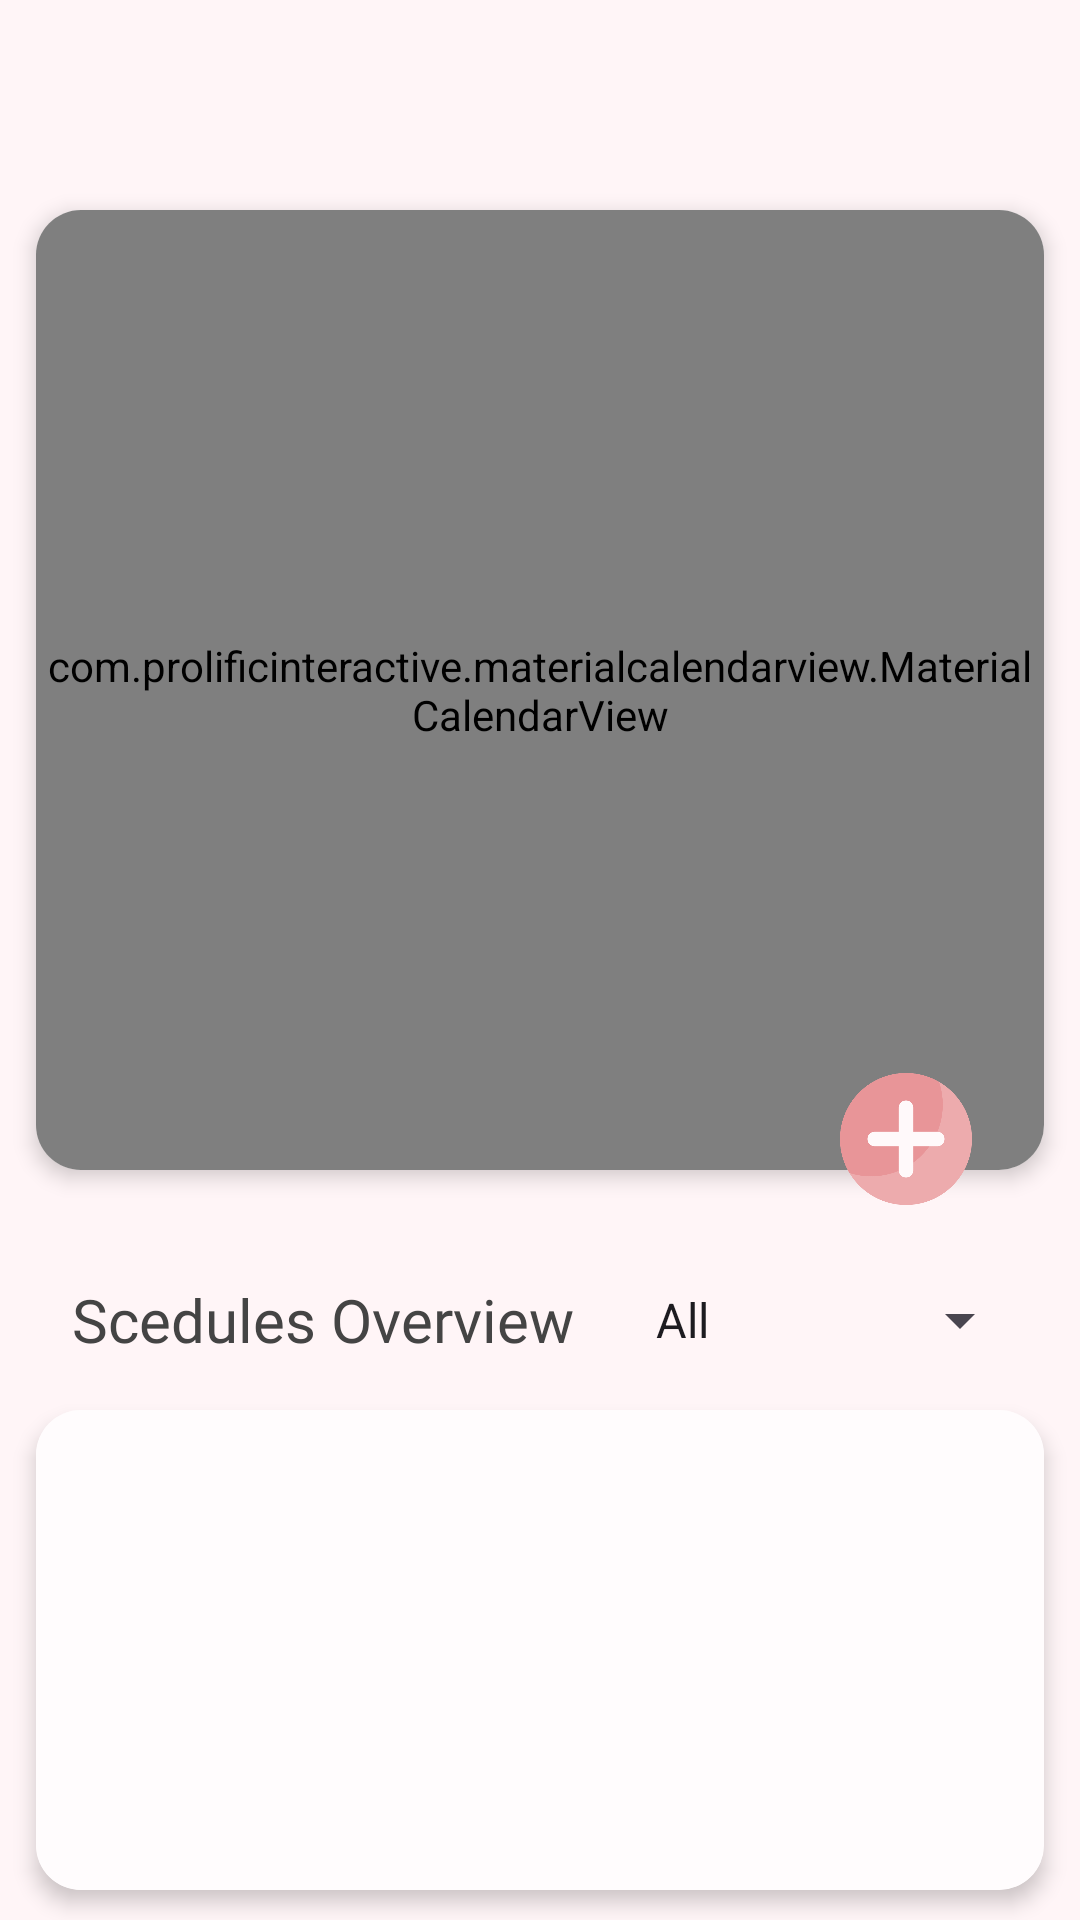

Where to tap for icons on this 1080 x 1920 app screen, as point (x, y):
Add Event: point (906, 1139)
